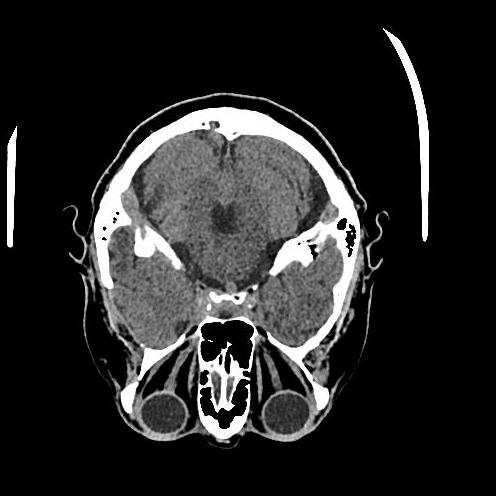Normal_Brain: (62, 89, 383, 449)
